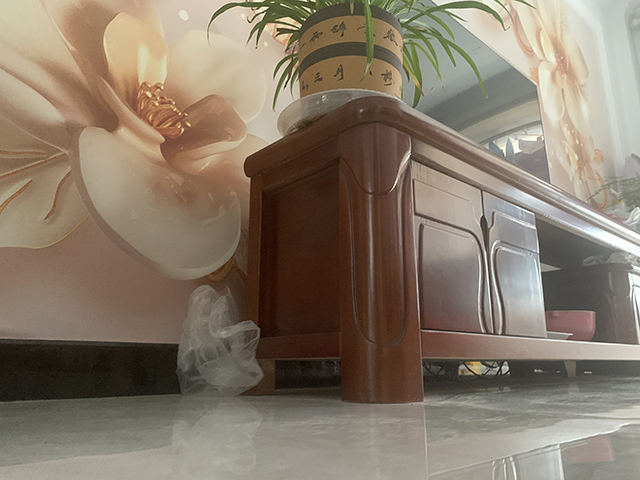cabinet: (241, 94, 640, 406)
wire: (424, 361, 512, 381)
